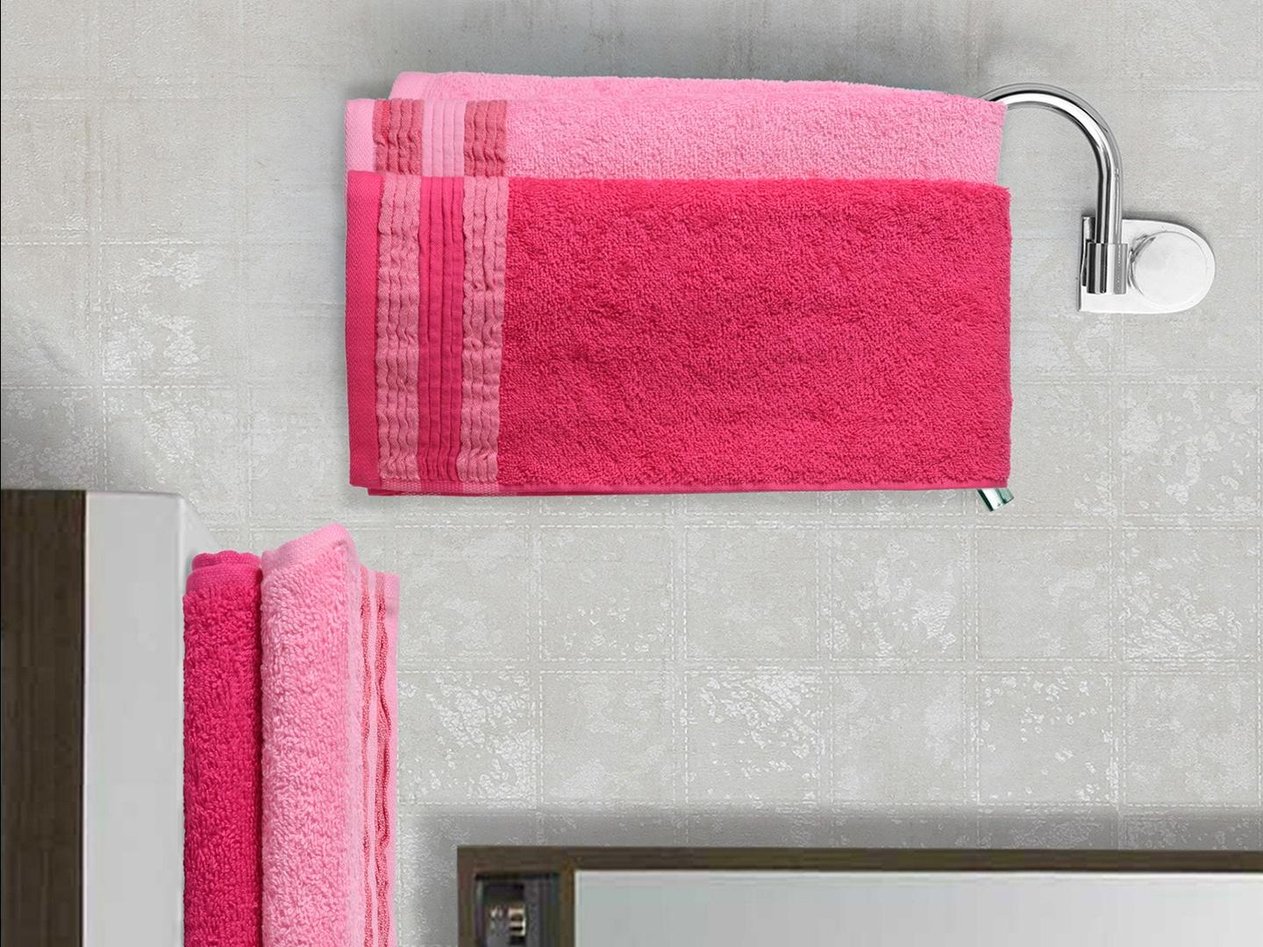Towel: (307, 64, 1057, 513)
